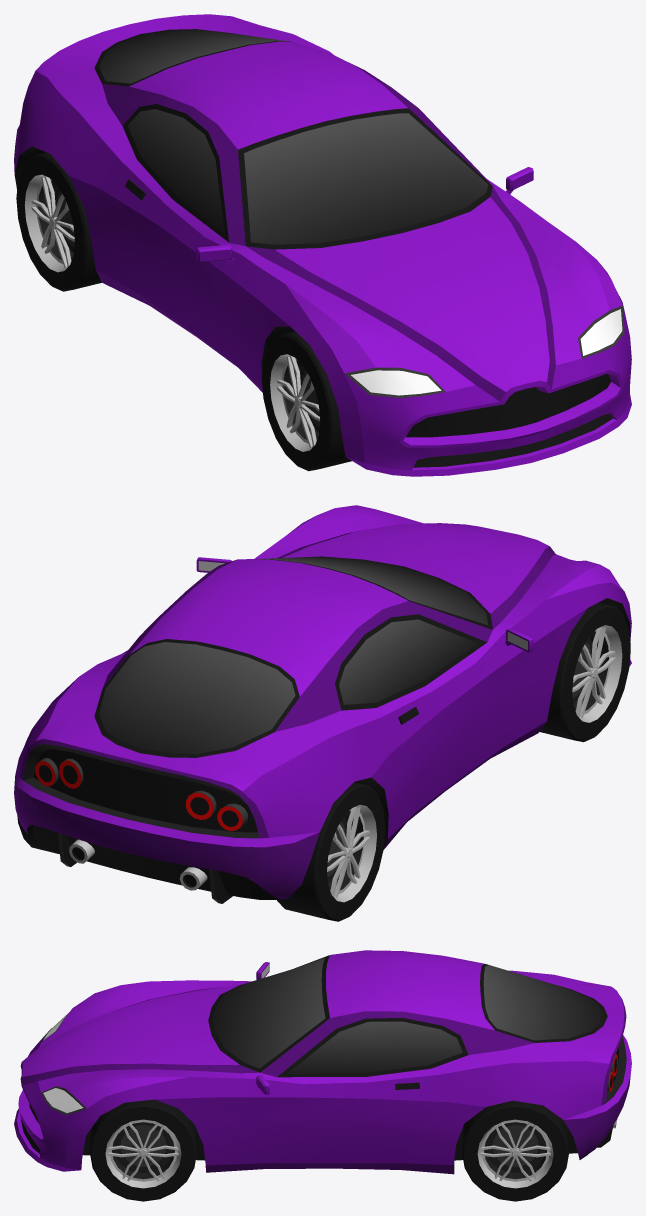
File: Sedan 3.fbx
3 renders of one model, top to bottom at view 1: azimuth 30°, elevation 25°; view 2: azimuth 150°, elevation 25°; view 3: azimuth 270°, elevation 25°, orthographic. The views are drawn at different scales.
Visible parts, largest first — view 1: Sedan_3_Body, F_R, B_R, Sedan_3_Lights; view 2: Sedan_3_Body, B_R, F_R, Sedan_3_Lights; view 3: Sedan_3_Body, F_L, B_L, Sedan_3_Lights.
Part boxes in pixels (left/top/right/bottom): Sedan_3_Body: left=14, top=14, right=631, bottom=476; F_R: left=261, top=331, right=351, bottom=471; B_R: left=16, top=152, right=101, bottom=291; Sedan_3_Lights: left=351, top=309, right=622, bottom=395; Sedan_3_Body: left=14, top=505, right=631, bottom=903; B_R: left=277, top=782, right=385, bottom=921; F_R: left=539, top=602, right=630, bottom=742; Sedan_3_Lights: left=35, top=760, right=242, bottom=830; Sedan_3_Body: left=14, top=950, right=631, bottom=1174; F_L: left=90, top=1099, right=196, bottom=1201; B_L: left=462, top=1100, right=569, bottom=1201; Sedan_3_Lights: left=43, top=1013, right=617, bottom=1112.
Size of the model in its own units: 189 by 124 by 398.
